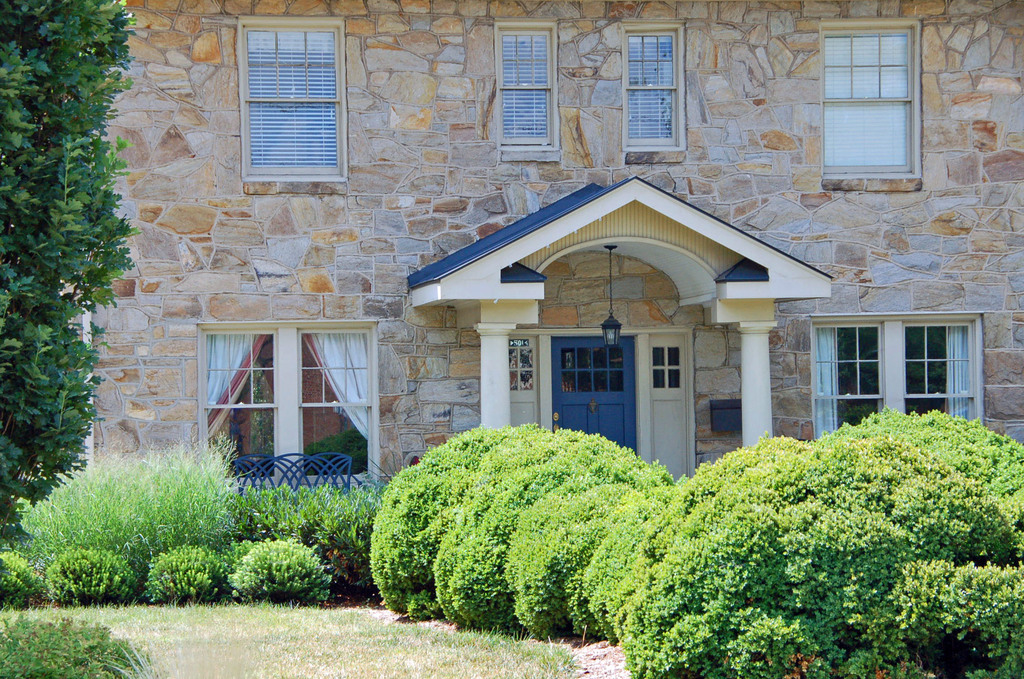Tree: (0, 0, 144, 551)
